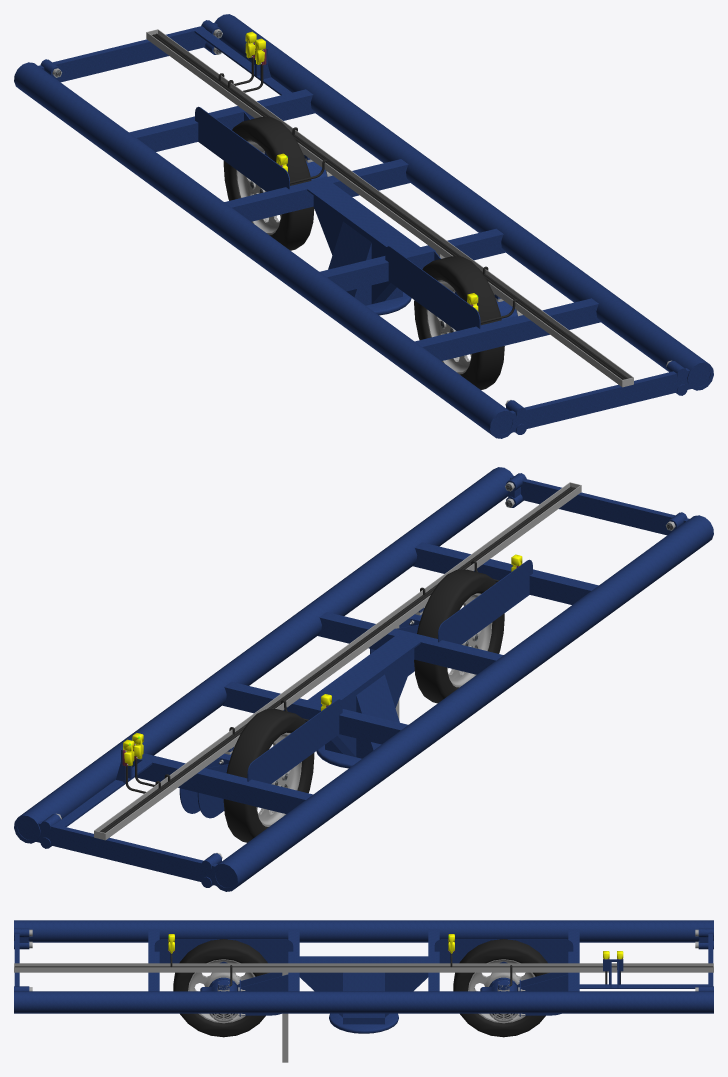
The model's file is Transport (End Sensor).dae.
3 views of the same model, one above another, from view 1: azimuth 30°, elevation 25°; view 2: azimuth 150°, elevation 25°; view 3: azimuth 270°, elevation 25° (orthographic). The views are drawn at different scales.
Visible parts, largest first — view 1: Track (×7), Mid_Detail (×4), High_Detail (×3), wheel0, wheel1; view 2: Track (×7), Mid_Detail (×4), High_Detail (×4), wheel0, wheel1; view 3: Track (×10), Mid_Detail (×4), High_Detail (×4), wheel0 (×3), wheel1 (×3).
Boxes of the visible parts, x1,y1,x2,y2 form: Track (×7): [14, 14, 713, 438]; Mid_Detail (×4): [146, 29, 633, 387]; High_Detail (×3): [153, 28, 627, 379]; wheel0: [414, 256, 504, 389]; wheel1: [223, 116, 314, 250]; Track (×7): [14, 467, 713, 891]; Mid_Detail (×4): [94, 482, 581, 840]; High_Detail (×4): [55, 486, 574, 832]; wheel0: [414, 569, 504, 703]; wheel1: [223, 709, 314, 842]; Track (×10): [14, 920, 713, 1033]; Mid_Detail (×4): [14, 939, 713, 1062]; High_Detail (×4): [14, 959, 713, 1016]; wheel0 (×3): [173, 939, 269, 1037]; wheel1 (×3): [453, 939, 549, 1037].
Bounding box in the file's own units: 53.48 × 197 × 37.52.
9 materials, 3 textured.
